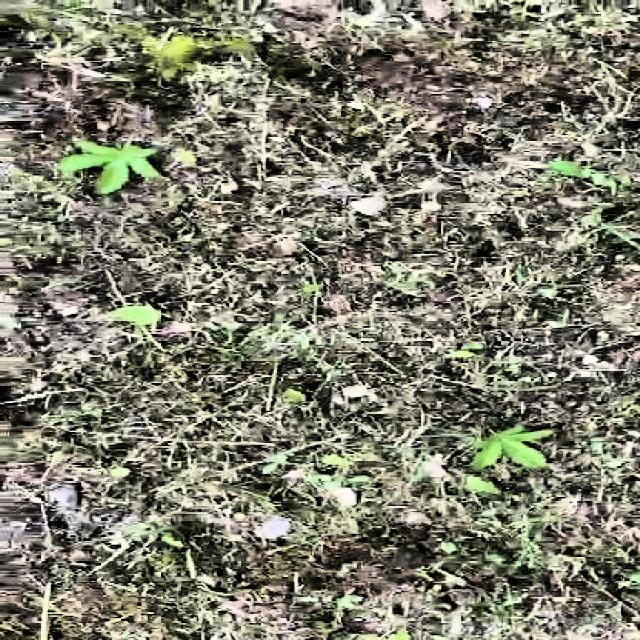Weeds: (61, 135, 162, 199), (470, 422, 555, 476)
